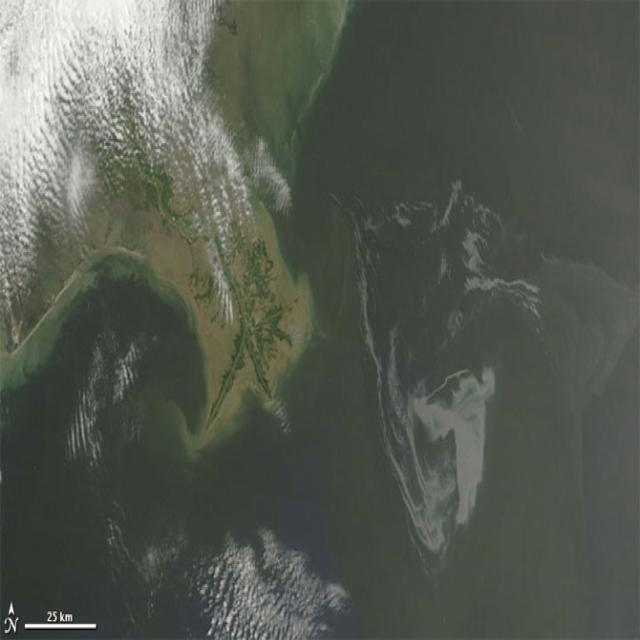oil spill: (356, 207, 494, 554)
